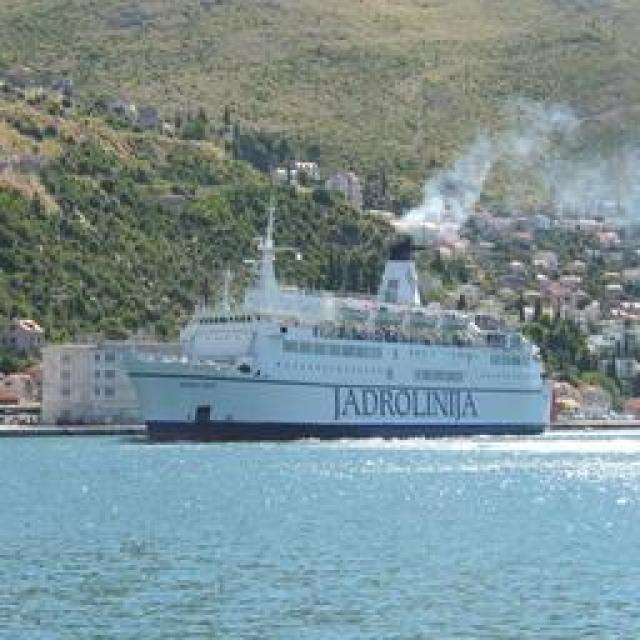CIV_Ship: (130, 294, 550, 436)
